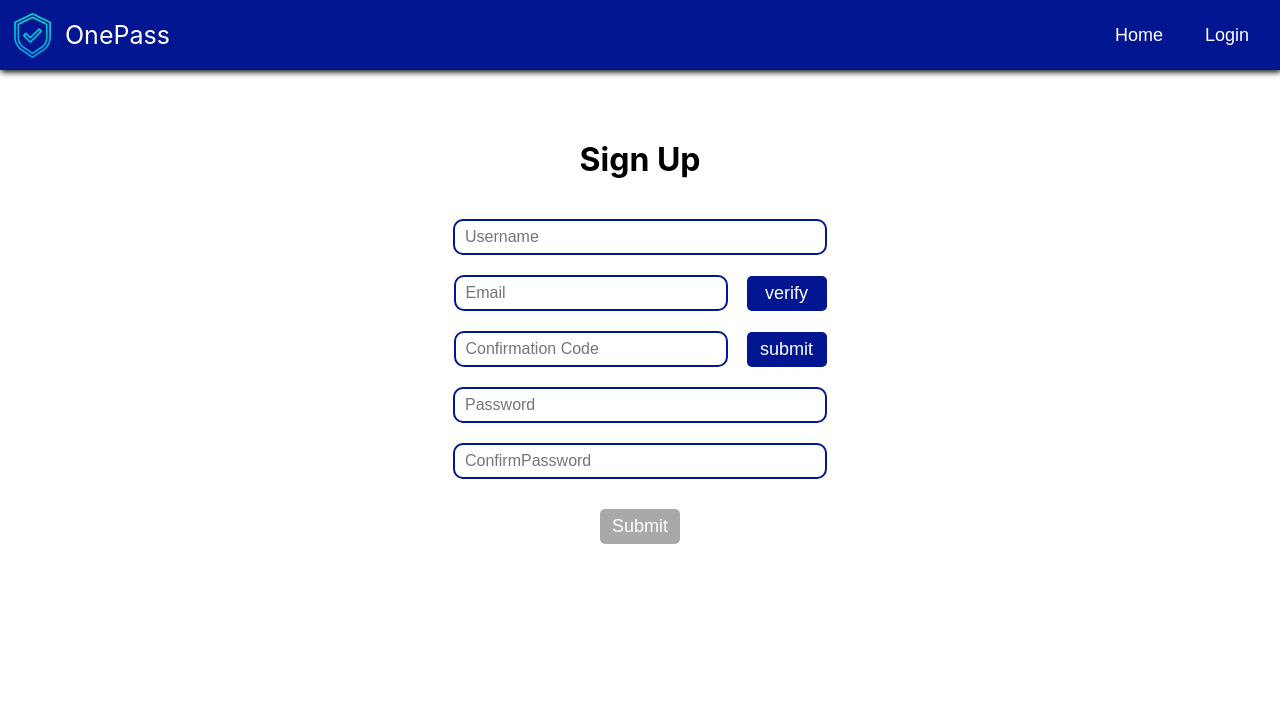
it: <Signup /> › Error message should show if confirmationCode and email confirmationCode is not same
This screenshot has width=1280, height=720.
Type "1234" into the field with placeholder "Confirmation Code" at (590, 349), box [454,331,728,367]
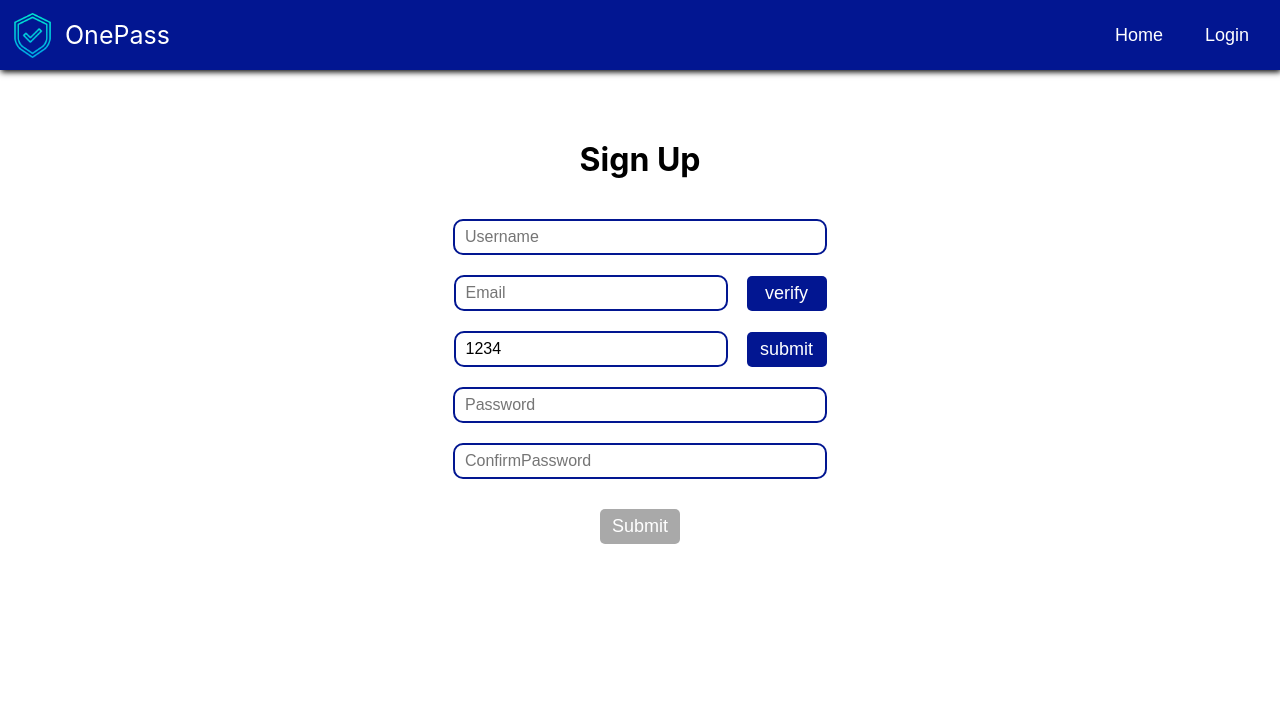
Click the button "submit" at (786, 349), box [746,332,826,366]
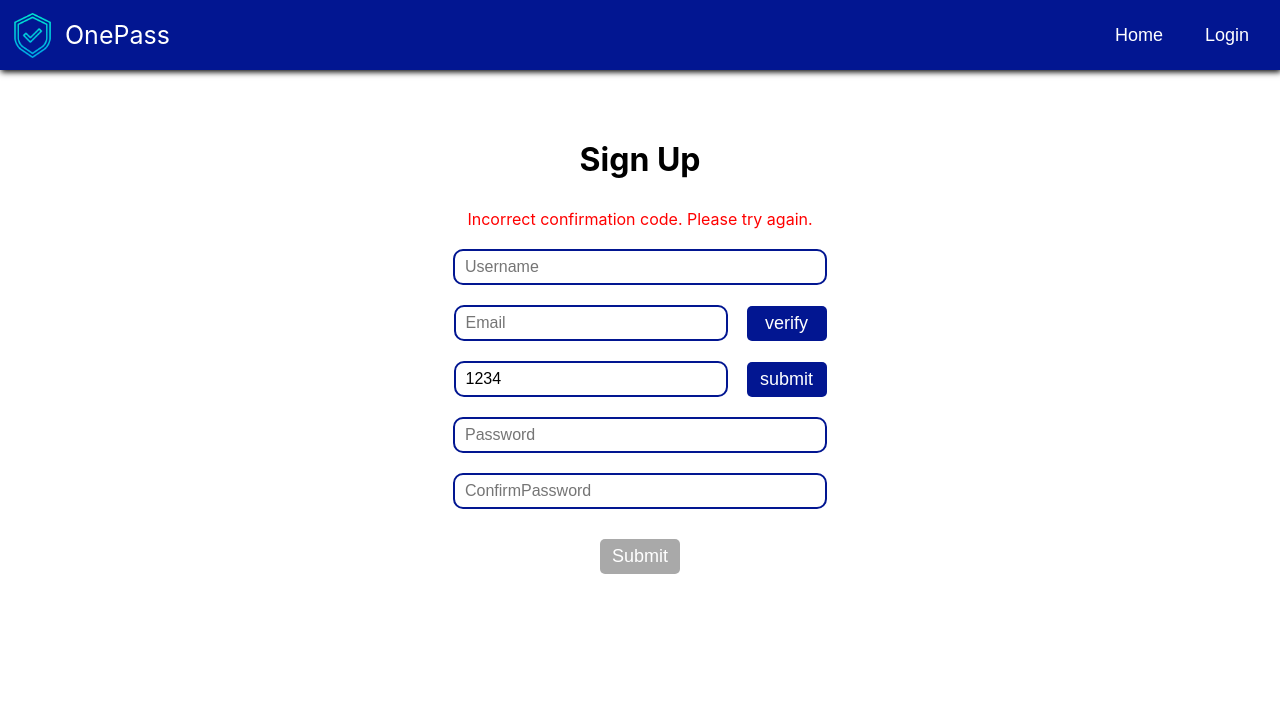
Now the text "Incorrect confirmation code. Please try again." is shown, box [467,209,813,229]
